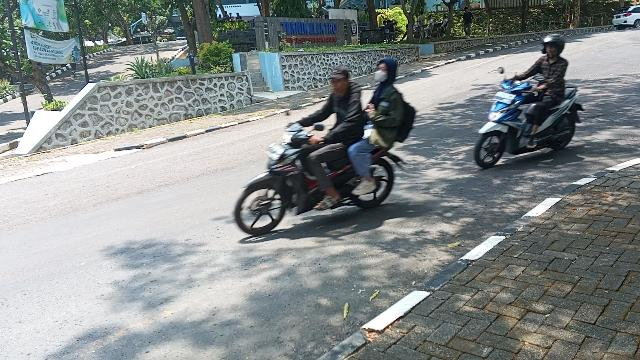helm: (541, 34, 567, 58)
motor: (234, 110, 409, 239), (473, 66, 587, 170)
non-helm: (326, 64, 353, 96), (376, 59, 399, 85)
